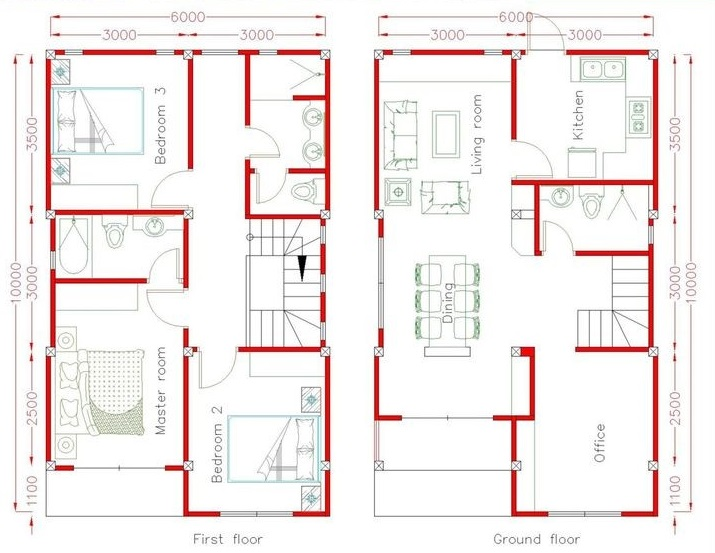door: (149, 171, 184, 209), (195, 354, 230, 392), (519, 140, 554, 178), (140, 286, 175, 324), (195, 355, 230, 393), (253, 123, 288, 161), (145, 240, 180, 278), (540, 212, 572, 246), (252, 175, 283, 207)
room: (370, 44, 537, 425), (43, 275, 194, 475), (509, 343, 662, 521), (183, 344, 333, 522), (42, 46, 195, 217), (509, 46, 660, 186), (509, 178, 658, 258), (241, 46, 333, 175), (45, 208, 192, 284), (240, 165, 332, 220)
window: (376, 233, 387, 331), (217, 509, 296, 521), (545, 507, 624, 519), (199, 45, 240, 56), (481, 43, 505, 59), (46, 246, 61, 271), (646, 221, 656, 247), (62, 47, 85, 57), (390, 47, 413, 57), (257, 46, 280, 56), (154, 47, 177, 57), (319, 222, 327, 245), (319, 318, 327, 341), (319, 270, 327, 293)
